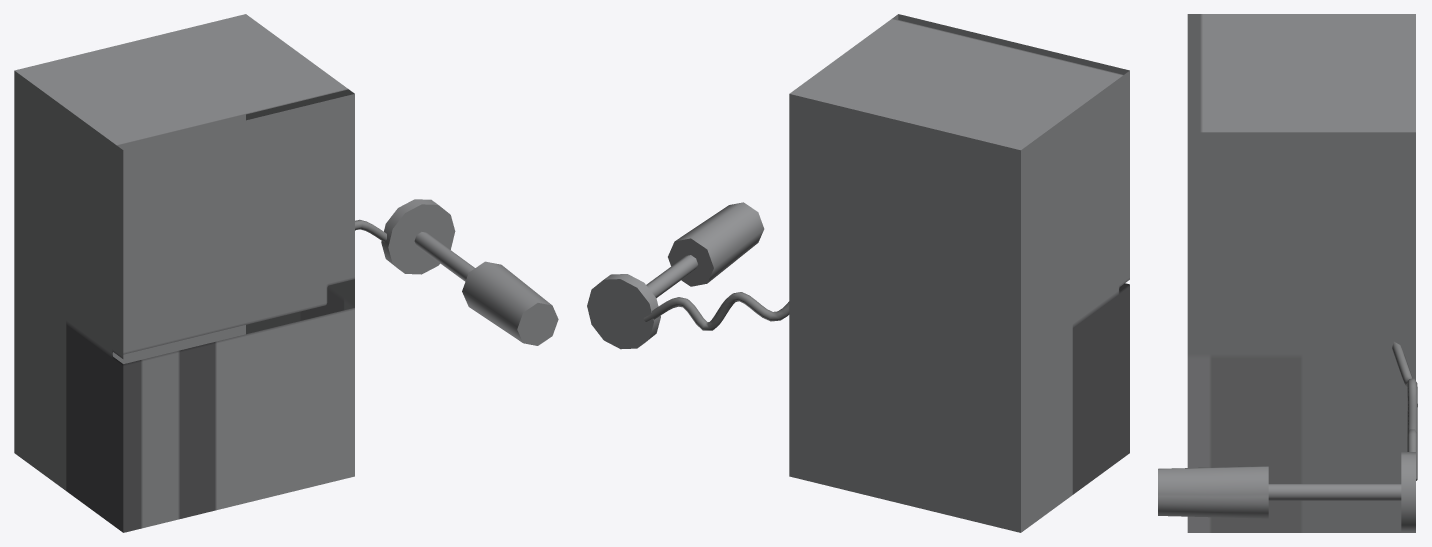
3 renders of one model, left to right at view 1: azimuth 30°, elevation 25°; view 2: azimuth 150°, elevation 25°; view 3: azimuth 270°, elevation 25°, orthographic. The views are drawn at different scales.
Bounding box in the file's own units: 0.712 × 0.6 × 0.3524.
